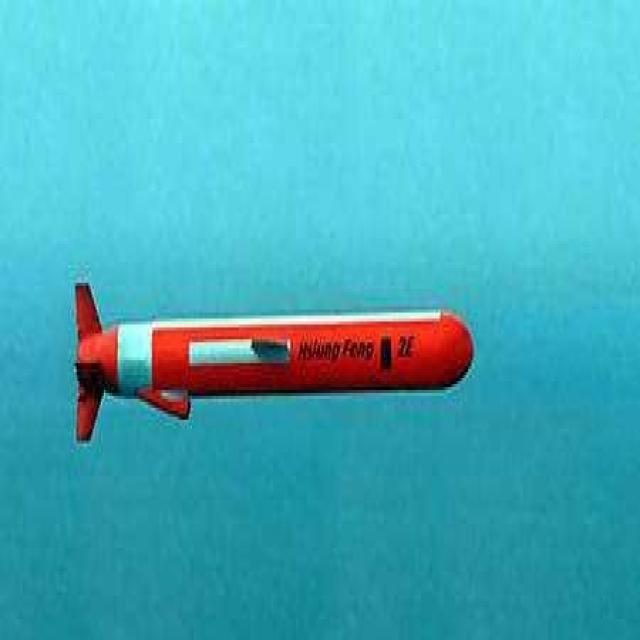missile: (66, 285, 472, 443)
